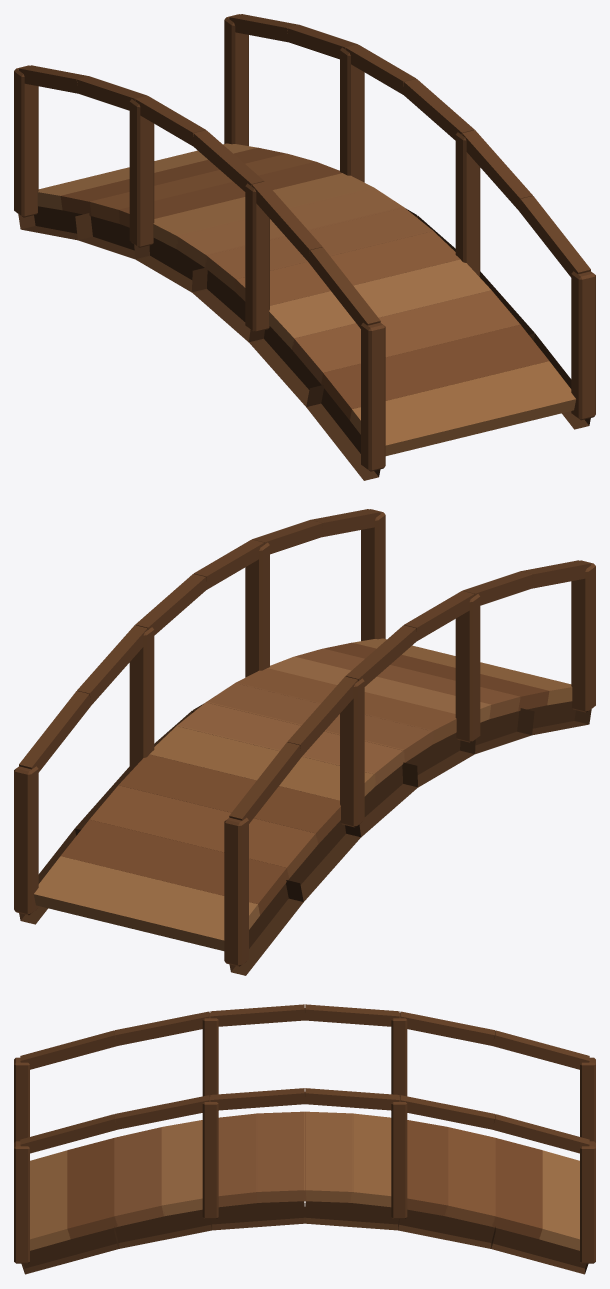
Rendered from Footbridge.glb.
3 renders of one model, top to bottom at view 1: azimuth 30°, elevation 25°; view 2: azimuth 150°, elevation 25°; view 3: azimuth 270°, elevation 25°, orthographic. The views are drawn at different scales.
Visible parts, largest first — view 1: Deck, Body; view 2: Deck, Body; view 3: Deck, Body.
Part boxes in pixels (x1,y1,x2,y2): Deck: [37, 143, 576, 455]; Body: [14, 14, 595, 480]; Deck: [33, 638, 572, 950]; Body: [14, 509, 595, 975]; Deck: [30, 1111, 579, 1250]; Body: [14, 1004, 595, 1274].
Size of what is drawn, in the model's own units: 5.3 by 4.94 by 14.4.
